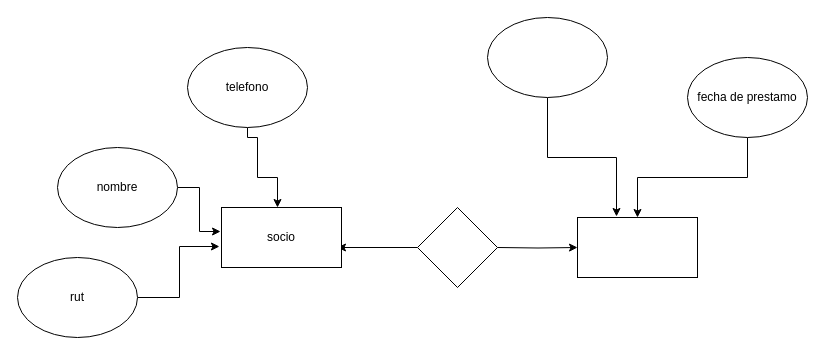
Image size: 825x355. Some labels were removed from this diagram. Each missing label, with the centre of its shape:
libros: the point at 637,247
llamada: the point at 457,247
